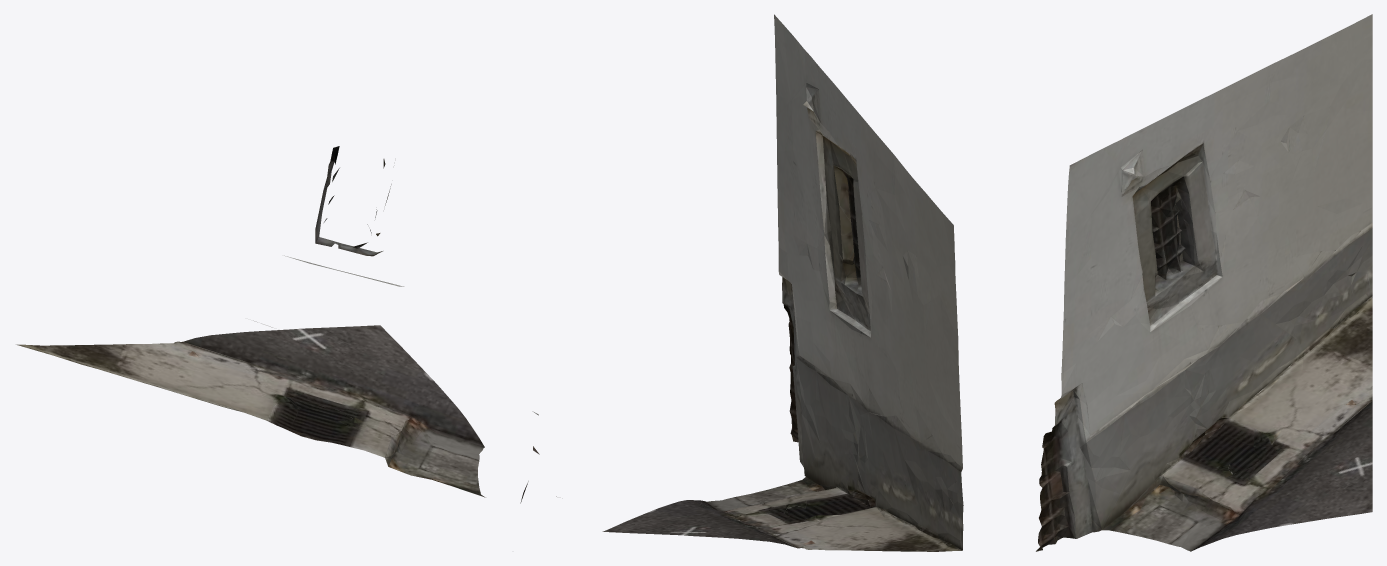
The picture shows the model from 3 angles, left to right: view 1: azimuth 30°, elevation 25°; view 2: azimuth 150°, elevation 25°; view 3: azimuth 270°, elevation 25°; orthographic projection. The views are drawn at different scales.
Bounding box in the file's own units: 2.89 × 3.35 × 2.99.
Materials: 3 (3 with a texture image).
